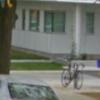bicycles: (60, 58, 86, 91)
